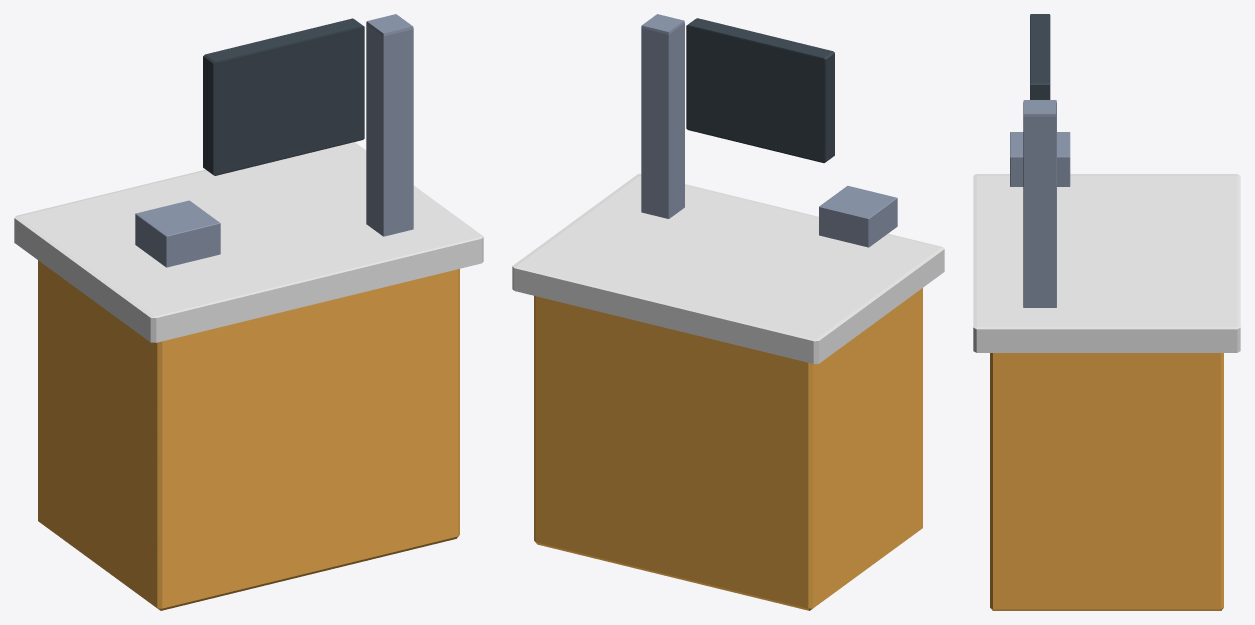
Rendered from VerificationStation.glb.
3 renders of one model, left to right at view 1: azimuth 30°, elevation 25°; view 2: azimuth 150°, elevation 25°; view 3: azimuth 270°, elevation 25°, orthographic. The views are drawn at different scales.
Visible parts, largest first — view 1: Base, Counter, Screen, Post, Scanner; view 2: Base, Counter, Screen, Post, Scanner; view 3: Base, Counter, Post, Screen, Scanner.
Part boxes in pixels (x1=…): Base: x1=38, y1=260, x2=459, y2=610; Counter: x1=14, y1=142, x2=483, y2=342; Screen: x1=203, y1=18, x2=364, y2=175; Post: x1=366, y1=14, x2=413, y2=236; Scanner: x1=135, y1=200, x2=220, y2=267; Base: x1=534, y1=288, x2=922, y2=610; Counter: x1=512, y1=174, x2=944, y2=363; Screen: x1=686, y1=18, x2=834, y2=162; Post: x1=641, y1=14, x2=684, y2=218; Scanner: x1=819, y1=186, x2=897, y2=247; Base: x1=990, y1=353, x2=1223, y2=610; Counter: x1=973, y1=174, x2=1240, y2=352; Post: x1=1023, y1=100, x2=1056, y2=307; Screen: x1=1030, y1=14, x2=1050, y2=99; Scanner: x1=1010, y1=132, x2=1070, y2=186.
Bounding box in the file's own units: 1.1 × 1.63 × 0.8.
